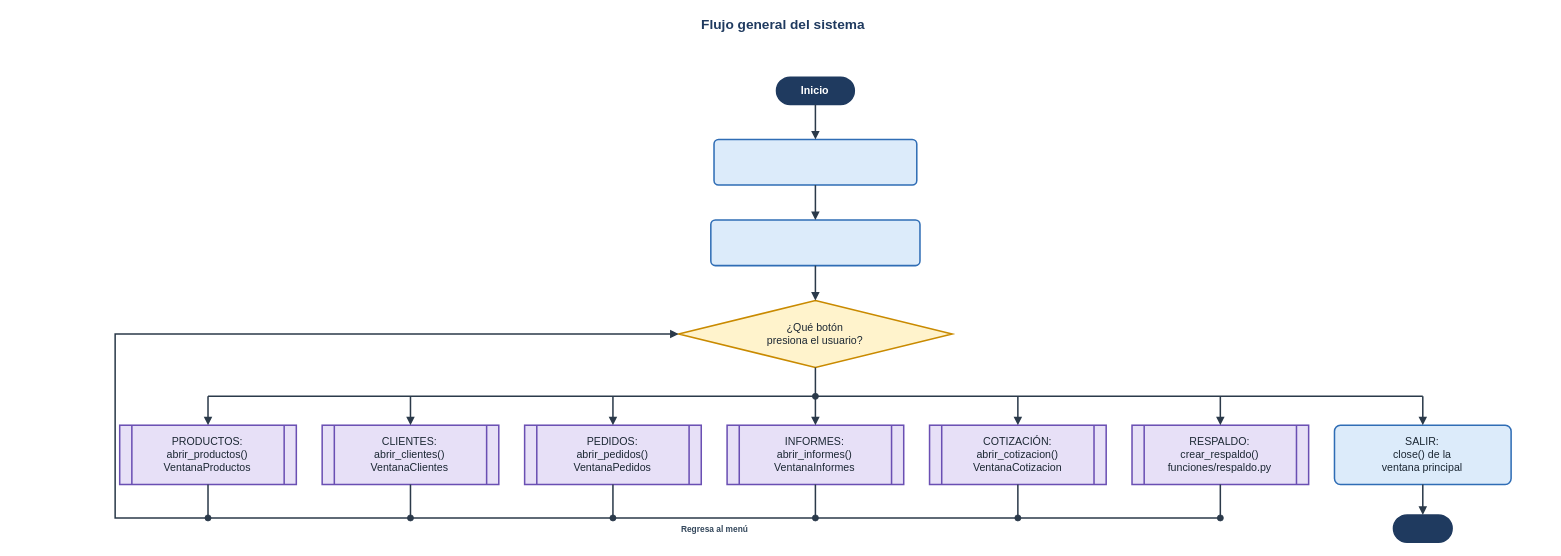
Image size: 1561x556. Some labels were removed from this diagram. Each missing label, with the centre of its shape:
"Fin" goes at (1422,528).
"main.py: crear QApplication y VentanaPrincipal" goes at (815,161).
"ventana.show() y app.exec_() (espera eventos)" goes at (815,242).
